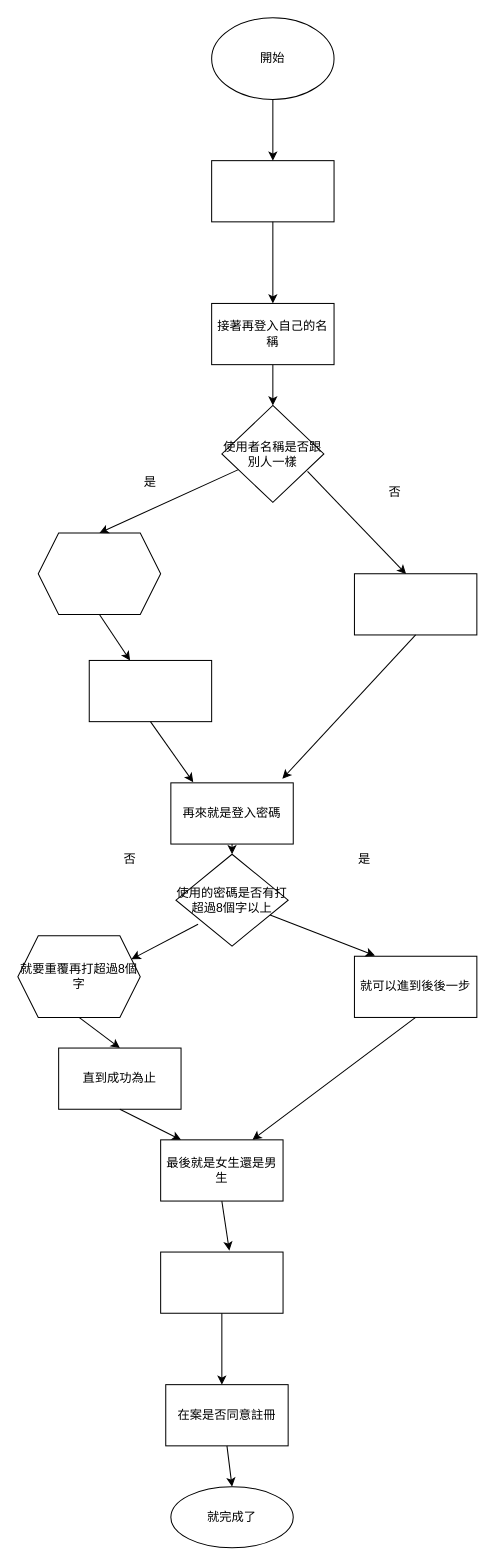
The diagram is 495 pixels wide and 1566 high, and some of its shapes have lost their labels. Each missing label, with the centre of its shape:
"就要再重複登入名稱" goes at [99,573].
"登入完之後" goes at [221,1282].
"直到登入自己的名稱可以用" goes at [150,690].
"請先輸入生日" goes at [272,191].
"那就可以進到下一步" goes at [415,604].
